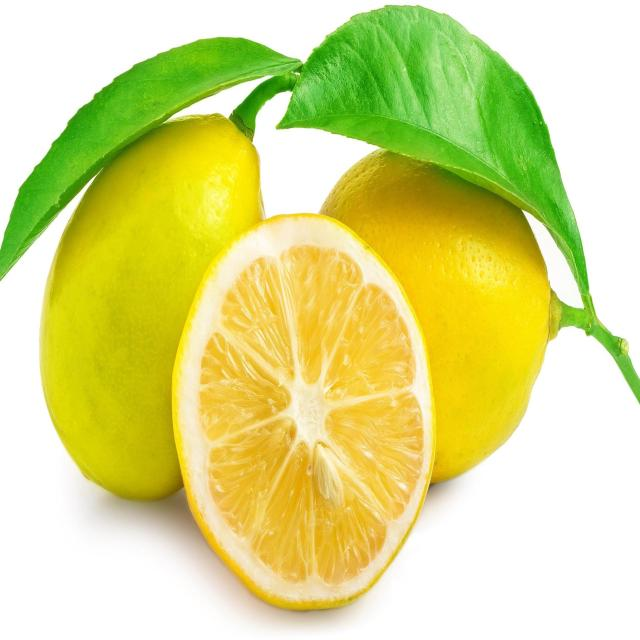lemon: (167, 202, 444, 620)
